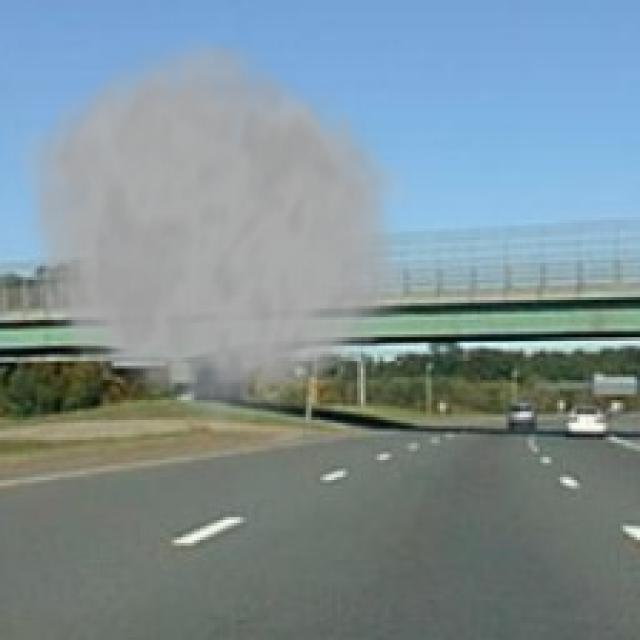smoke: (3, 26, 411, 443)
